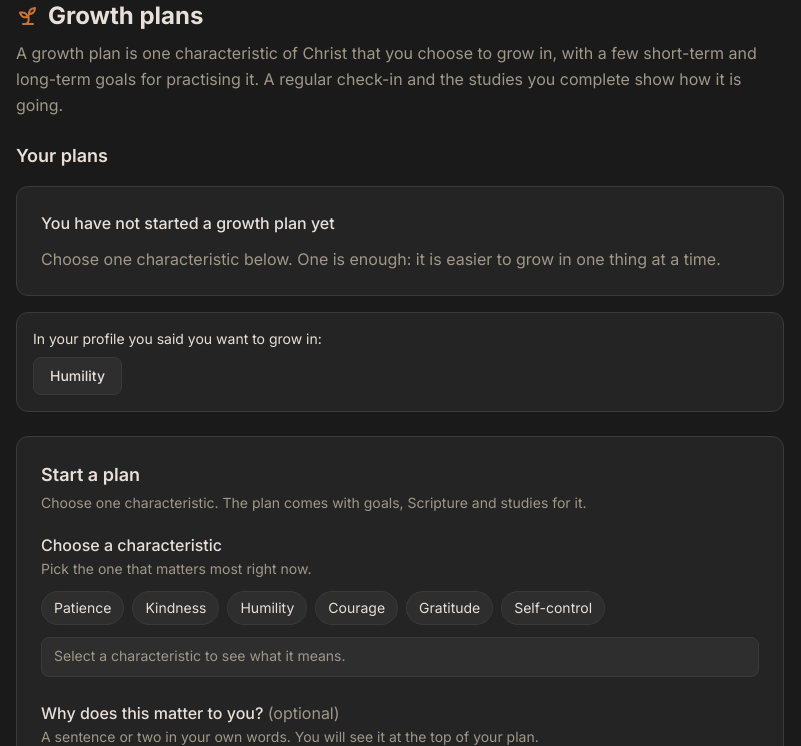
GrowthPlansPage › suggests the characteristics from the profile when there are no plans
The image size is (801, 746).
Check: the text "In your profile you said you want to grow in:" is shown, box [33,330,322,347]
Click the button with aria-label "Start a plan for Humility".
click(78, 376)  # box [33,357,122,395]
(page scrolled)
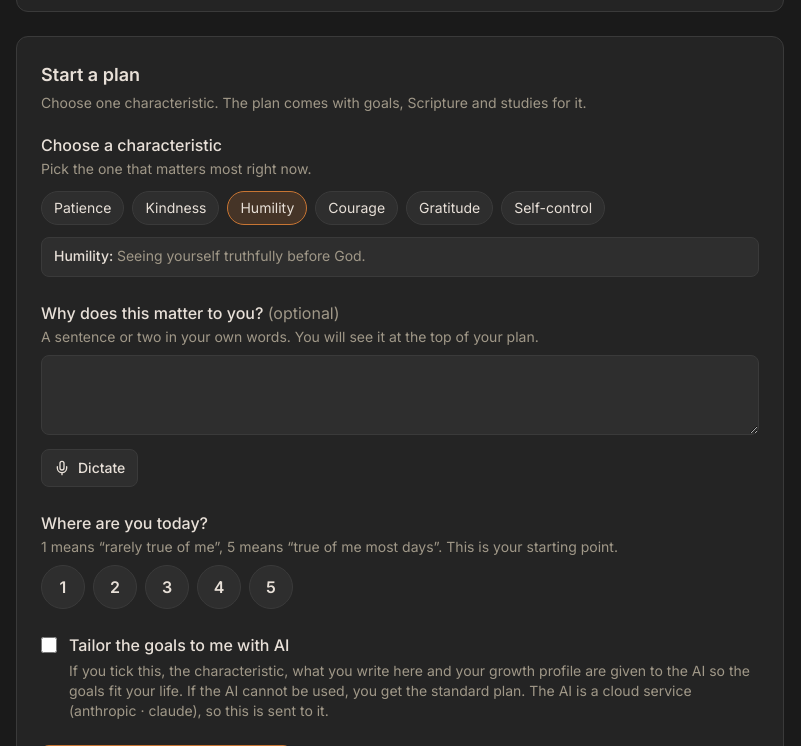
Check: the text "Seeing yourself truthfully before God." is shown, box [117,247,366,264]
